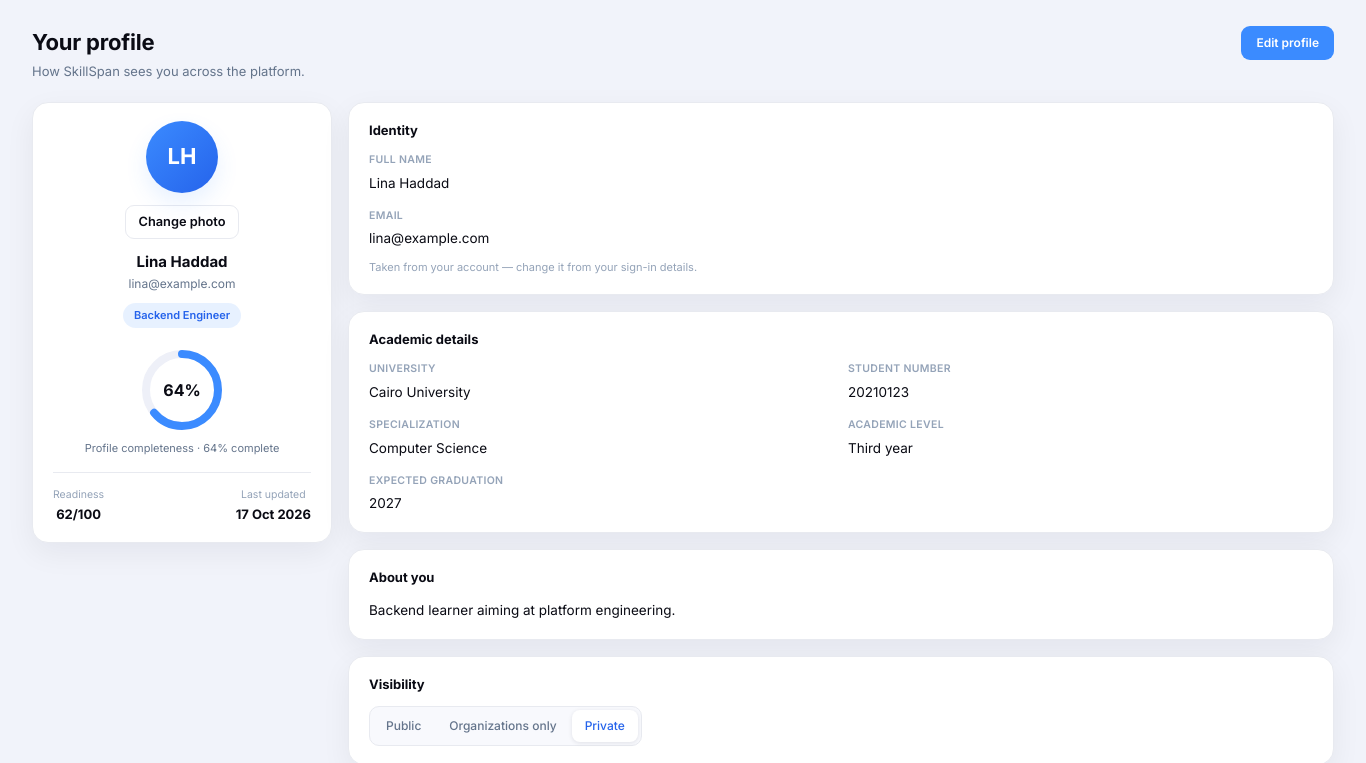
Test case: profile page › edits a field and saves only through the API
Expected: the text "Cairo University" is shown, [369,384,471,400]
Click the button "Edit profile": (1288,43) [1241,26,1334,60]
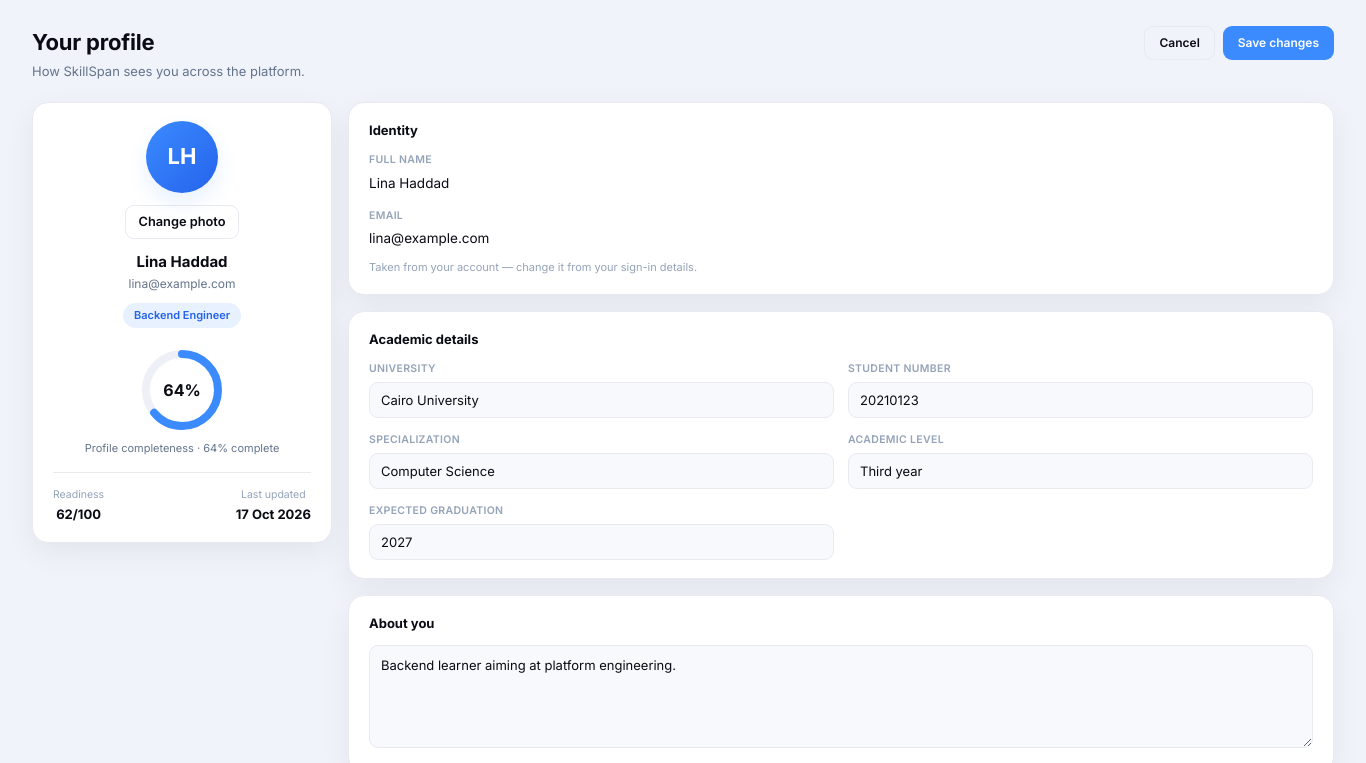
Replace the text in the field showing "Cairo University" with "Ain Shams University": (602,400) [369,382,834,418]
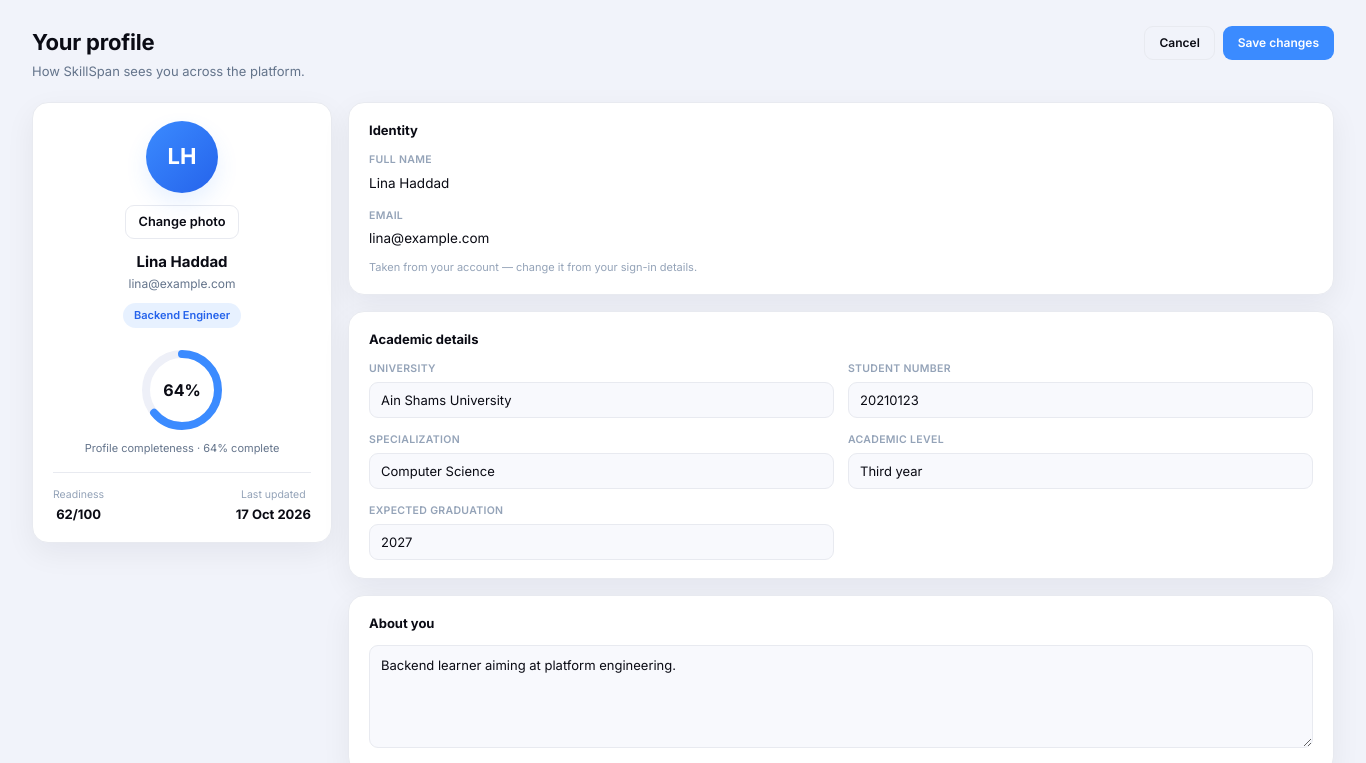
Click the button "Save changes": (1278,43) [1223,26,1334,60]
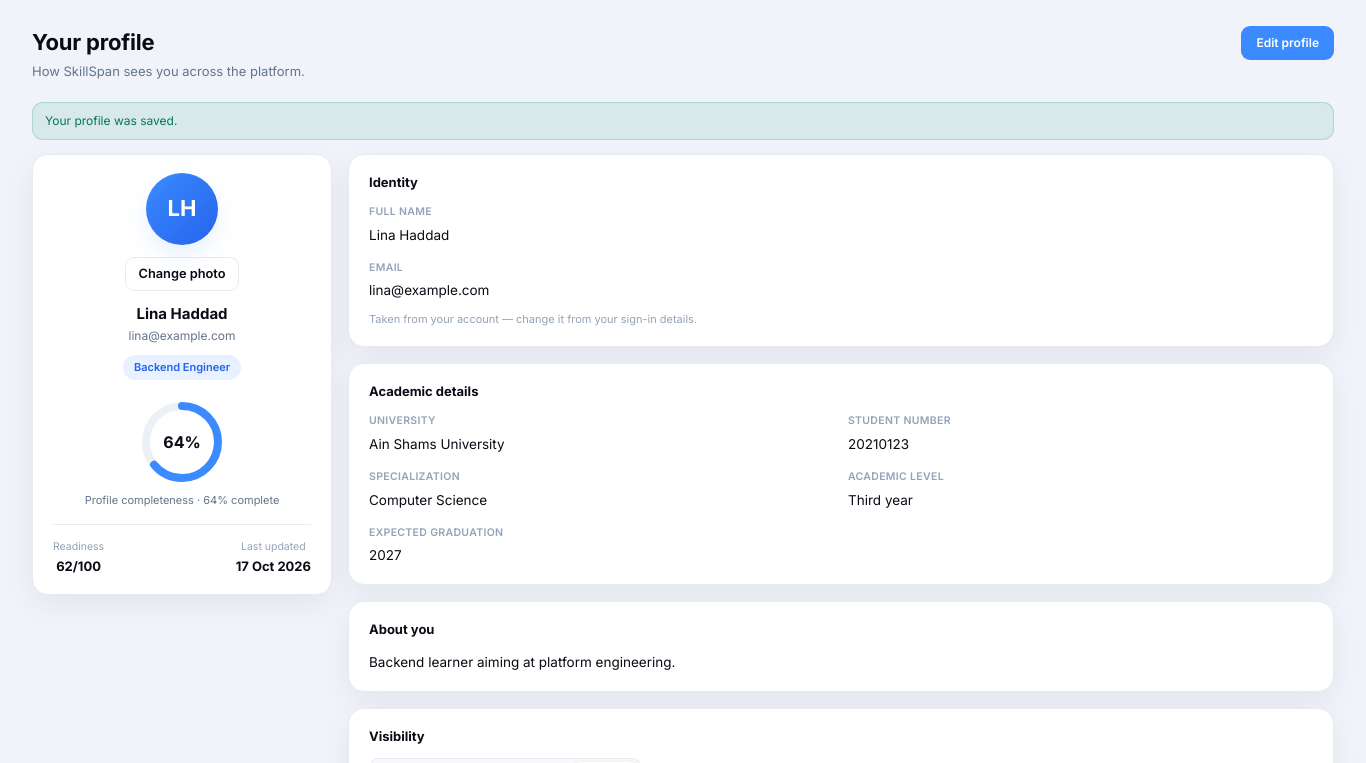
Now the text "Your profile was saved." is shown, box [32,102,1334,140]
